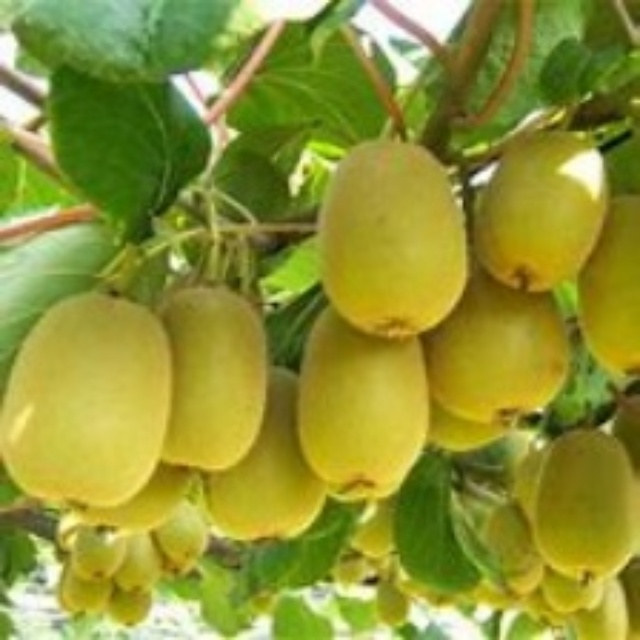kiwi: (174, 283, 329, 553), (12, 289, 166, 512), (292, 290, 443, 504), (315, 145, 473, 337), (417, 278, 579, 455), (496, 435, 635, 635), (480, 128, 609, 291), (570, 188, 639, 364)
